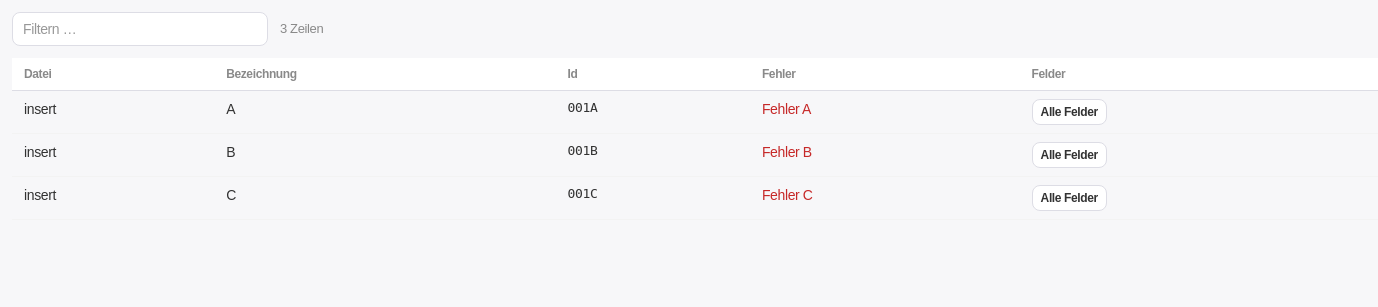
Test: ErrorsTable gesendete Felder › klappt alle gesendeten Felder einer Zeile auf und zu
This screenshot has width=1378, height=307.
Check: the text "BillingStreet" is not shown
Click the button "Alle Felder" in the row of "001A" at (1069, 112), box [1032,99,1107,125]
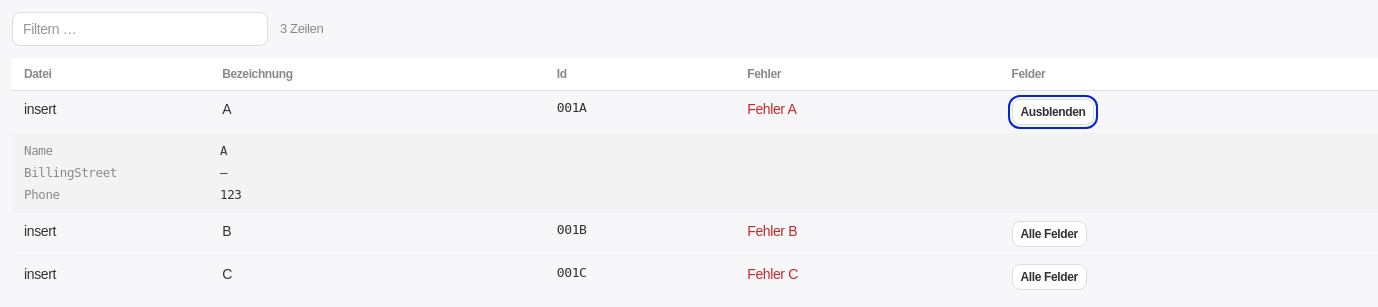
Check: the text "BillingStreet" is shown, box [24,165,117,180]
Check: the text "123" is shown, box [220,187,242,202]
Click the button "Ausblenden" at (1053, 112), box [1012,99,1094,125]
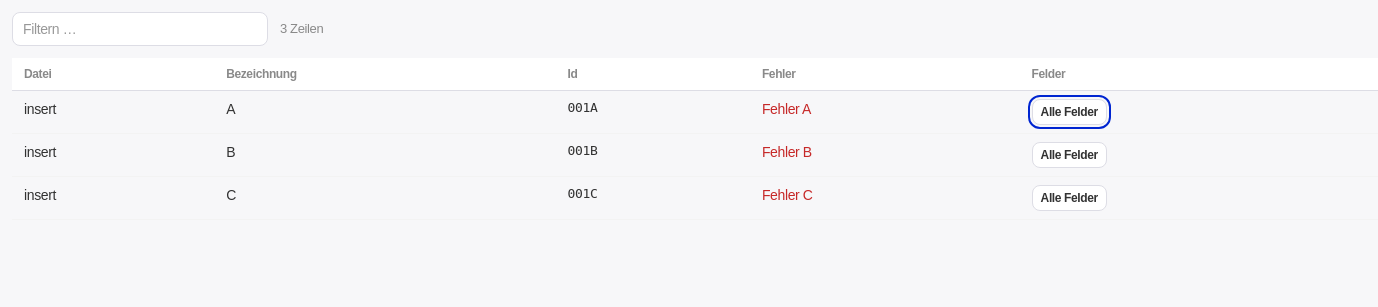
Check: the text "BillingStreet" is gone
